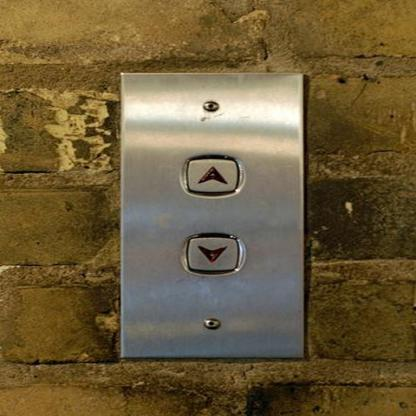down: (179, 231, 247, 277)
up: (176, 152, 246, 198)
